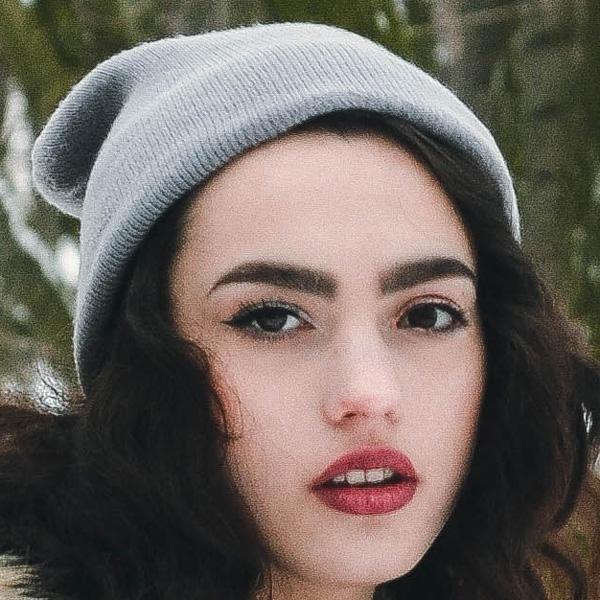Eyes: (216, 288, 321, 354), (383, 288, 478, 342)
